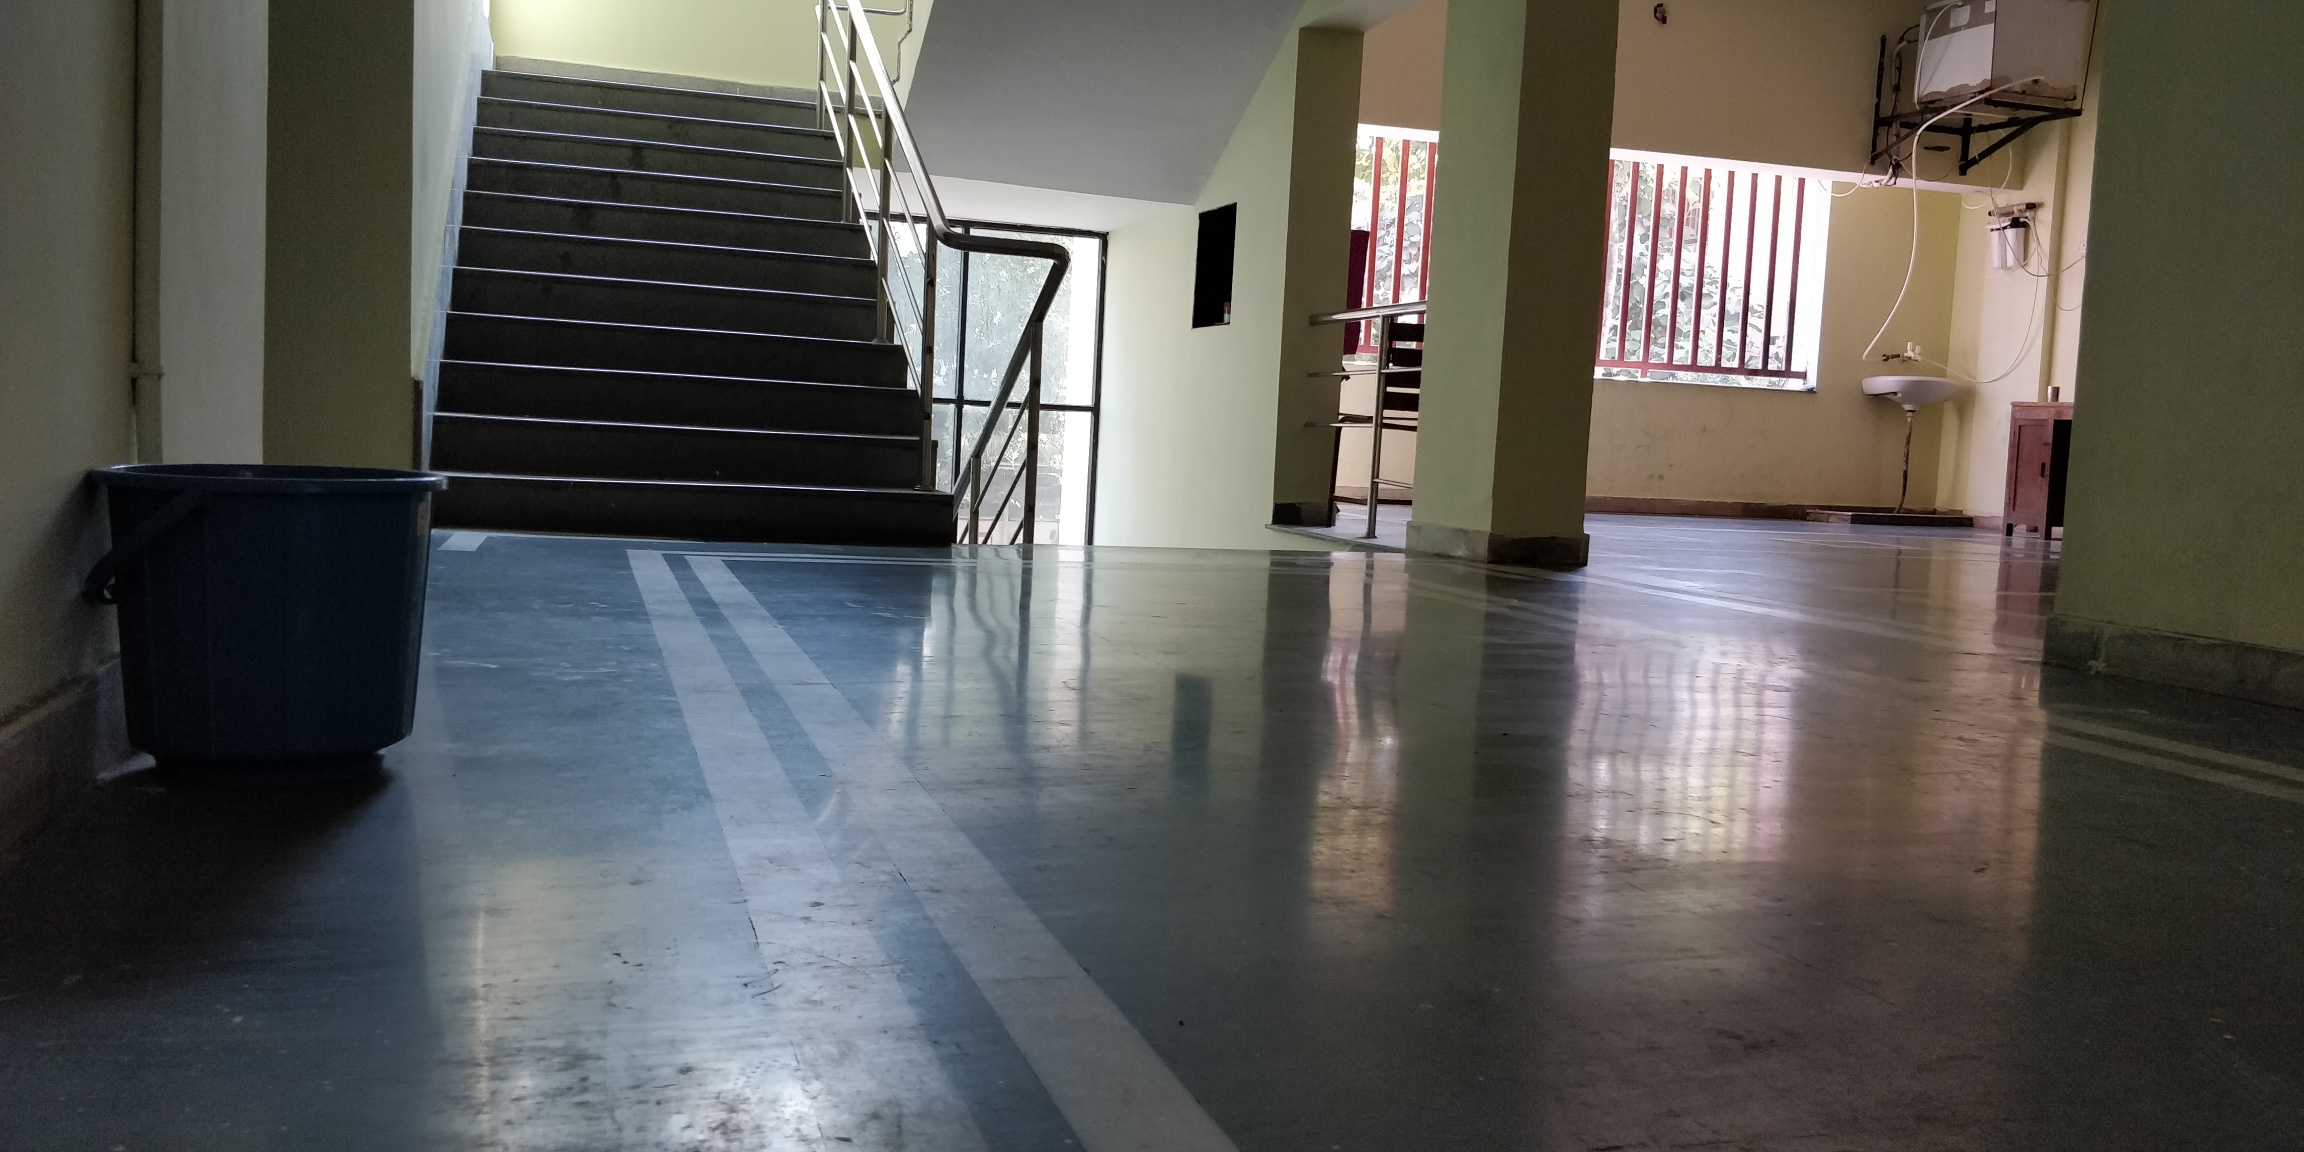stairs_up: (438, 65, 949, 552)
